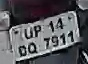1: (49, 20, 57, 34), (66, 32, 75, 43), (58, 33, 66, 44)
4: (56, 18, 66, 31)
7: (44, 37, 50, 49)
9: (52, 34, 60, 49)
D: (17, 45, 28, 59)
P: (34, 23, 41, 37)
Q: (26, 43, 40, 54)
U: (23, 28, 33, 40)
